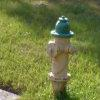Hydrant: (38, 7, 80, 100)
